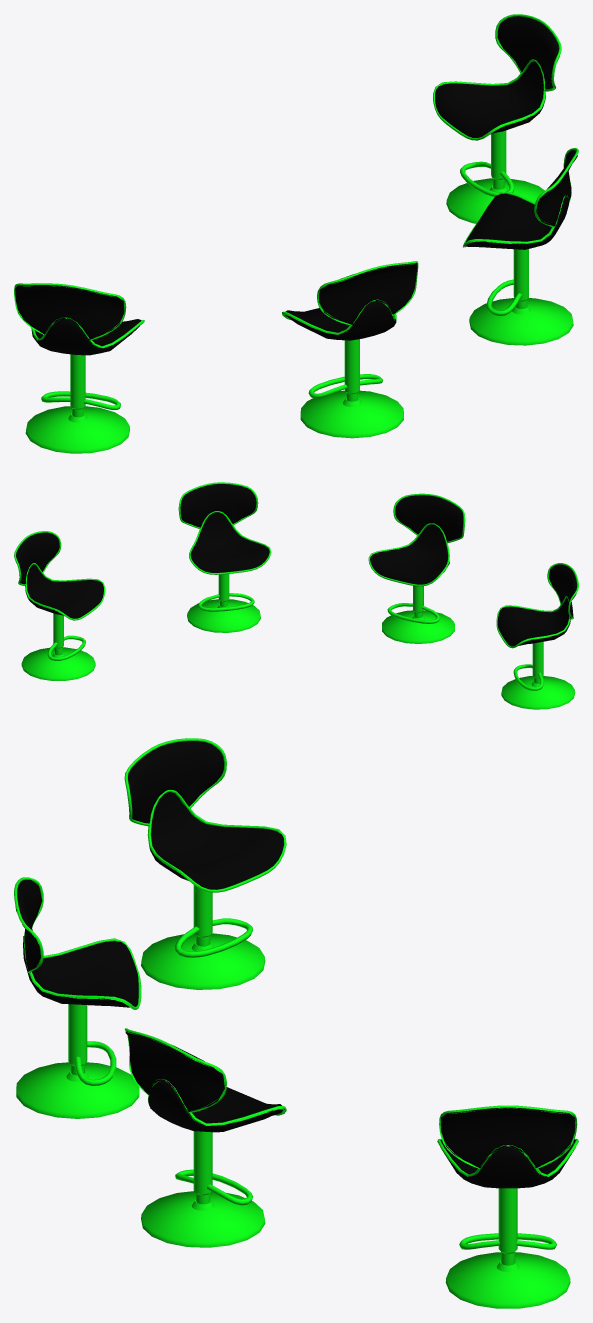
Rendered from Chairs_1_Realsize.FBX.
3 views of the same model, one above another, from view 1: azimuth 30°, elevation 25°; view 2: azimuth 150°, elevation 25°; view 3: azimuth 270°, elevation 25° (orthographic). The views are drawn at different scales.
Visible parts, largest first — view 1: Chairs_1_Realsize; view 2: Chairs_1_Realsize; view 3: Chairs_1_Realsize.
Part boxes in pixels (x1=…): Chairs_1_Realsize: x1=14, y1=14, x2=578, y2=453; Chairs_1_Realsize: x1=14, y1=482, x2=578, y2=709; Chairs_1_Realsize: x1=14, y1=738, x2=578, y2=1308.
Bounding box in the file's own units: 322 × 80.44 × 203.
2 materials, 1 textured.
